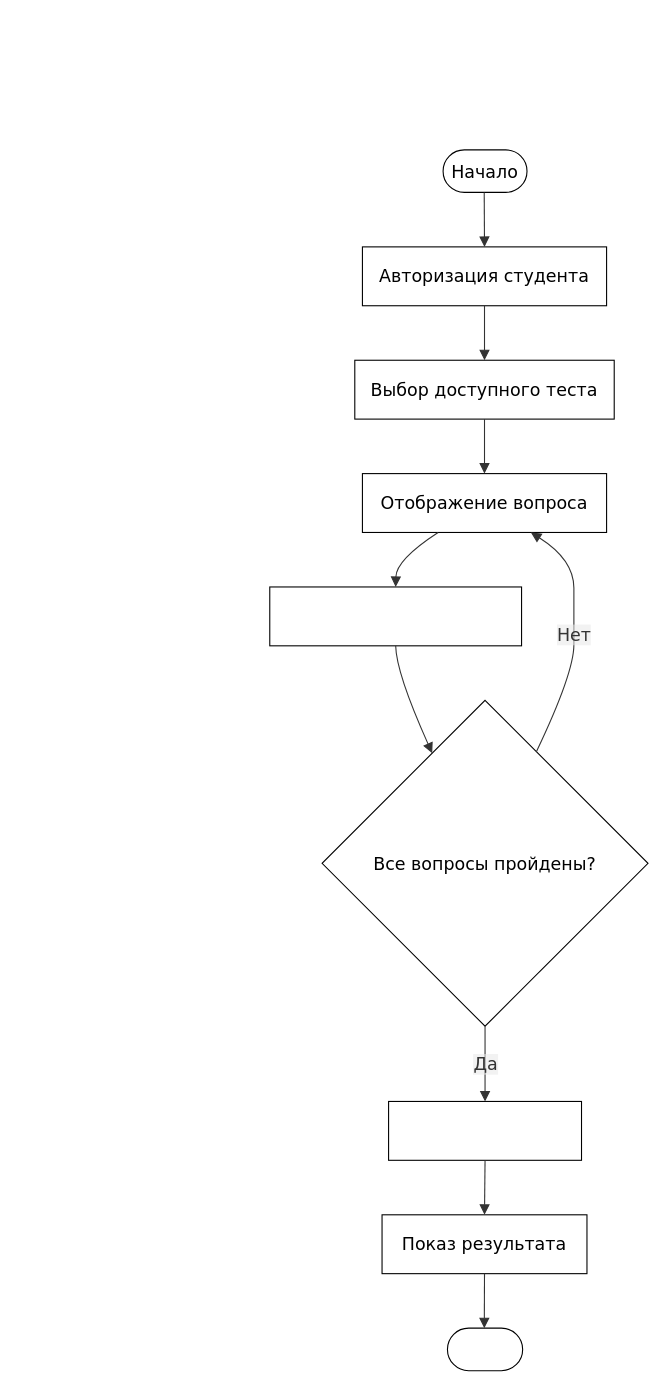
This 667x1390 diagram has some shape labels left out. The shapes that lost their labels are listed below. From the top down, each one's centre as x and y in pixels, then its label:
At point (395, 616): "Выбор варианта ответа".
At point (484, 1130): "Подсчет баллов".
At point (484, 1349): "Конец".
